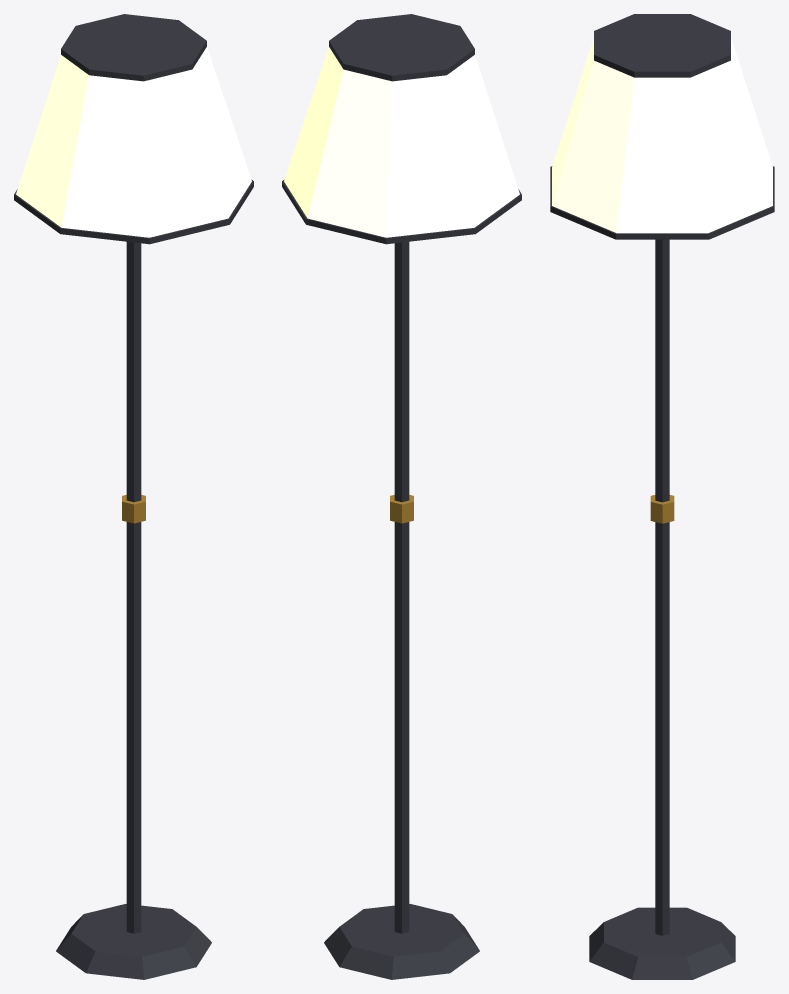
Rendered from floor_lamp.glb.
3 renders of one model, left to right at view 1: azimuth 30°, elevation 25°; view 2: azimuth 150°, elevation 25°; view 3: azimuth 270°, elevation 25°, orthographic.
Visible parts, largest first — view 1: floor_lamp; view 2: floor_lamp; view 3: floor_lamp.
Part boxes in pixels (x1,y1,x2,y2): floor_lamp: (14, 14, 253, 979); floor_lamp: (282, 14, 521, 979); floor_lamp: (550, 14, 774, 979).
Bounding box in the file's own units: 0.425 × 1.89 × 0.425.
